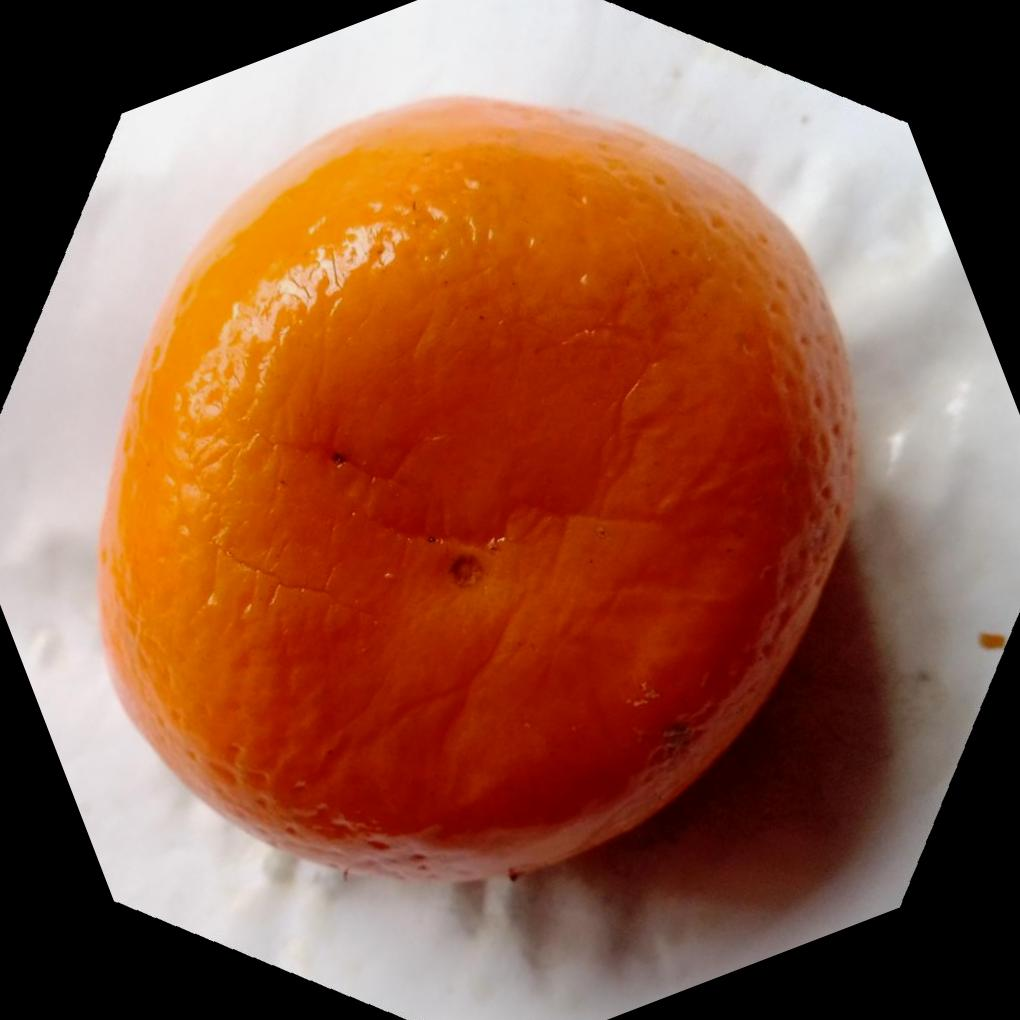FreshOrange: (95, 94, 863, 890)
